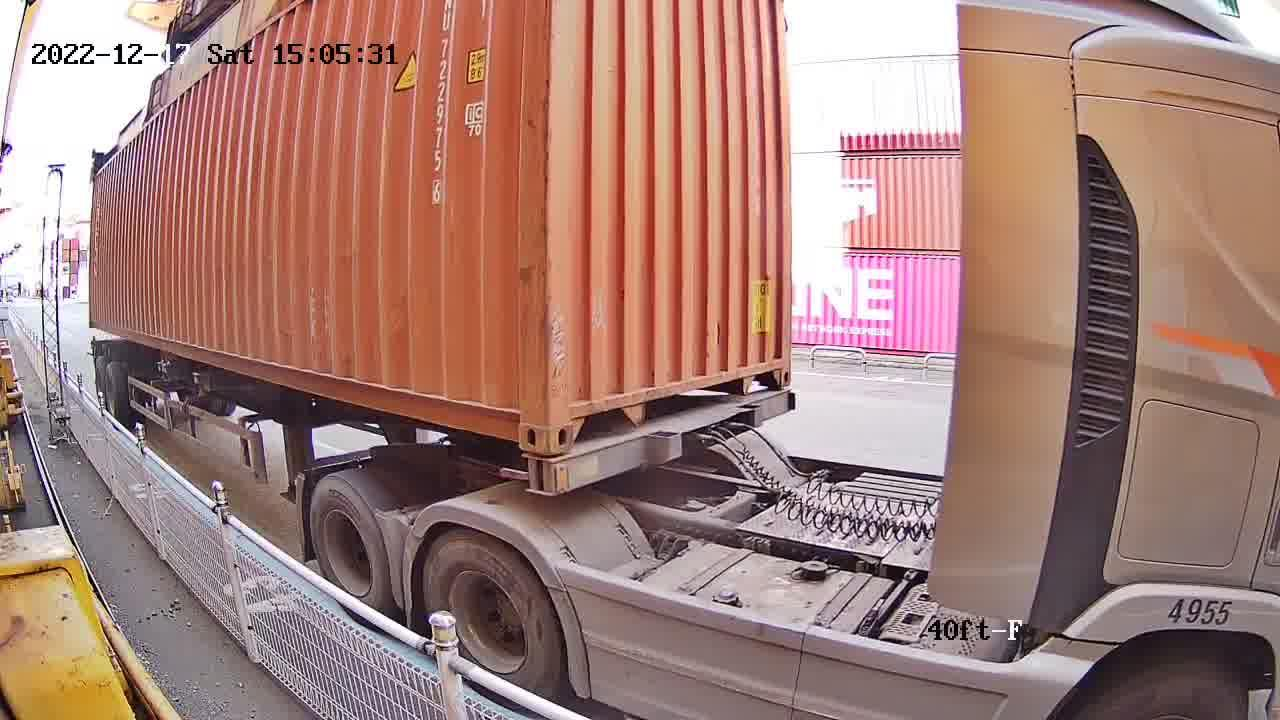Chassis: (552, 391, 795, 497)
Cone: (518, 453, 553, 497)
Hole_L: (549, 384, 595, 451)
Hole_R: (498, 387, 548, 449), (754, 342, 792, 393)
Tire: (422, 534, 557, 691), (313, 478, 383, 607)
